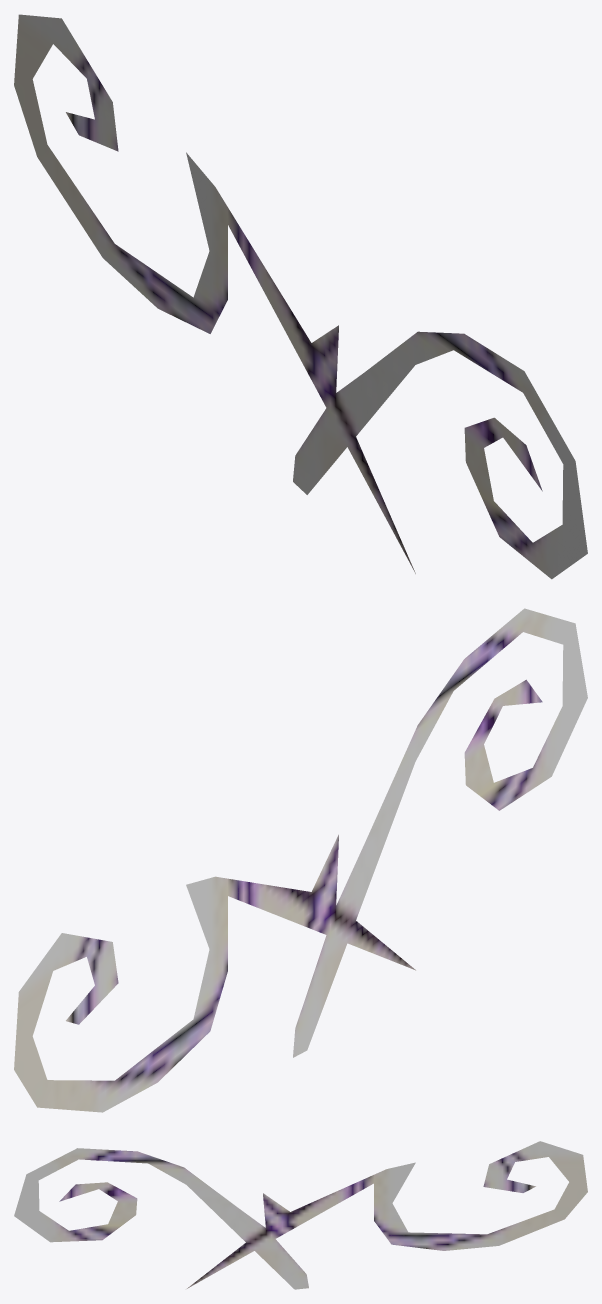
3 views of the same model, one above another, from view 1: azimuth 30°, elevation 25°; view 2: azimuth 150°, elevation 25°; view 3: azimuth 270°, elevation 25° (orthographic). The views are drawn at different scales.
Parts seen in each view (by area): view 1: Picsart_22-01-21_15-37-57-171.001; view 2: Picsart_22-01-21_15-37-57-171.001; view 3: Picsart_22-01-21_15-37-57-171.001.
Boxes of the visible parts, box(x1,y1,x2,y2) form: Picsart_22-01-21_15-37-57-171.001: box(14, 14, 587, 579); Picsart_22-01-21_15-37-57-171.001: box(14, 608, 587, 1112); Picsart_22-01-21_15-37-57-171.001: box(14, 1141, 587, 1289).
Size of the model in its own units: 2.51e-07 by 0.6048 by 2.11.
Materials: 1 (1 with a texture image).
